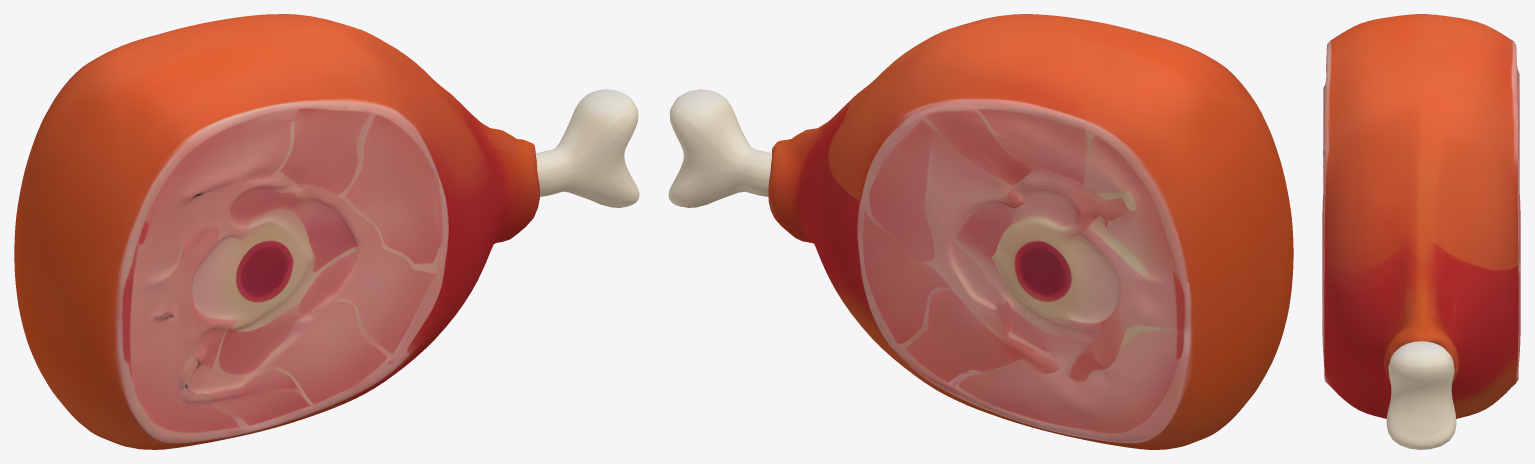
The model's file is base_basic_shaded.glb.
3 renders of one model, left to right at view 1: azimuth 30°, elevation 25°; view 2: azimuth 150°, elevation 25°; view 3: azimuth 270°, elevation 25°, orthographic. The views are drawn at different scales.
Visible parts, largest first — view 1: model; view 2: model; view 3: model.
Boxes of the visible parts, x1,y1,x2,y2 form: model: [14, 14, 639, 449]; model: [668, 14, 1293, 449]; model: [1322, 14, 1520, 449].
Bounding box in the file's own units: 1.9 × 1.16 × 0.6161.
Materials: 1 (1 with a texture image).
